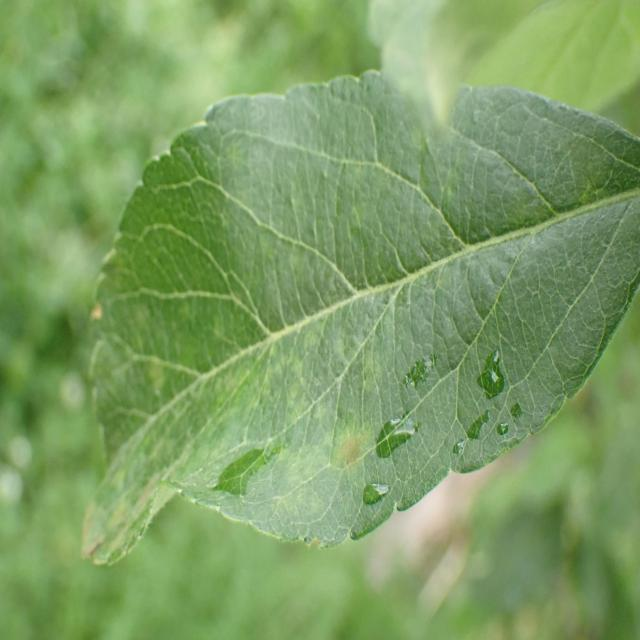scab: (72, 98, 630, 564)
